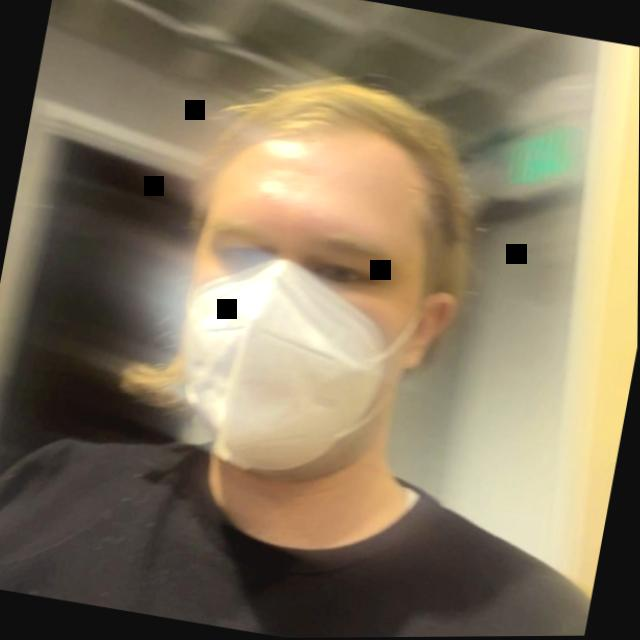Mask: (98, 16, 528, 562)
